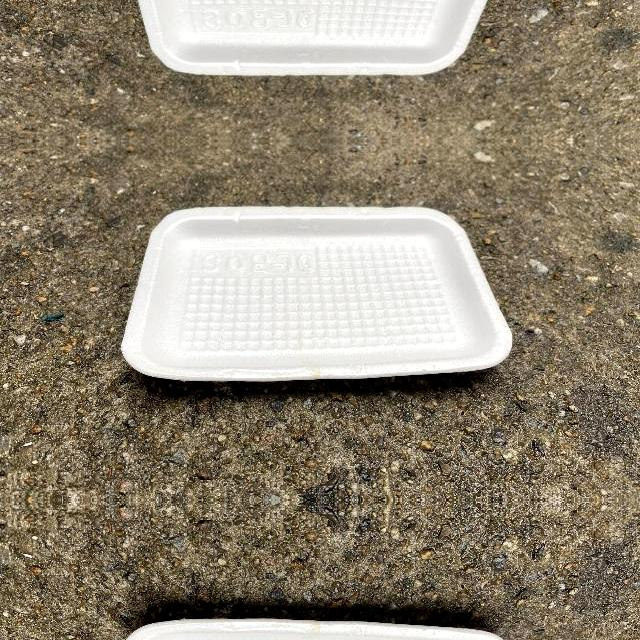Styrofoam: (119, 205, 514, 382), (121, 206, 513, 381), (118, 0, 513, 75), (137, 0, 487, 74)
